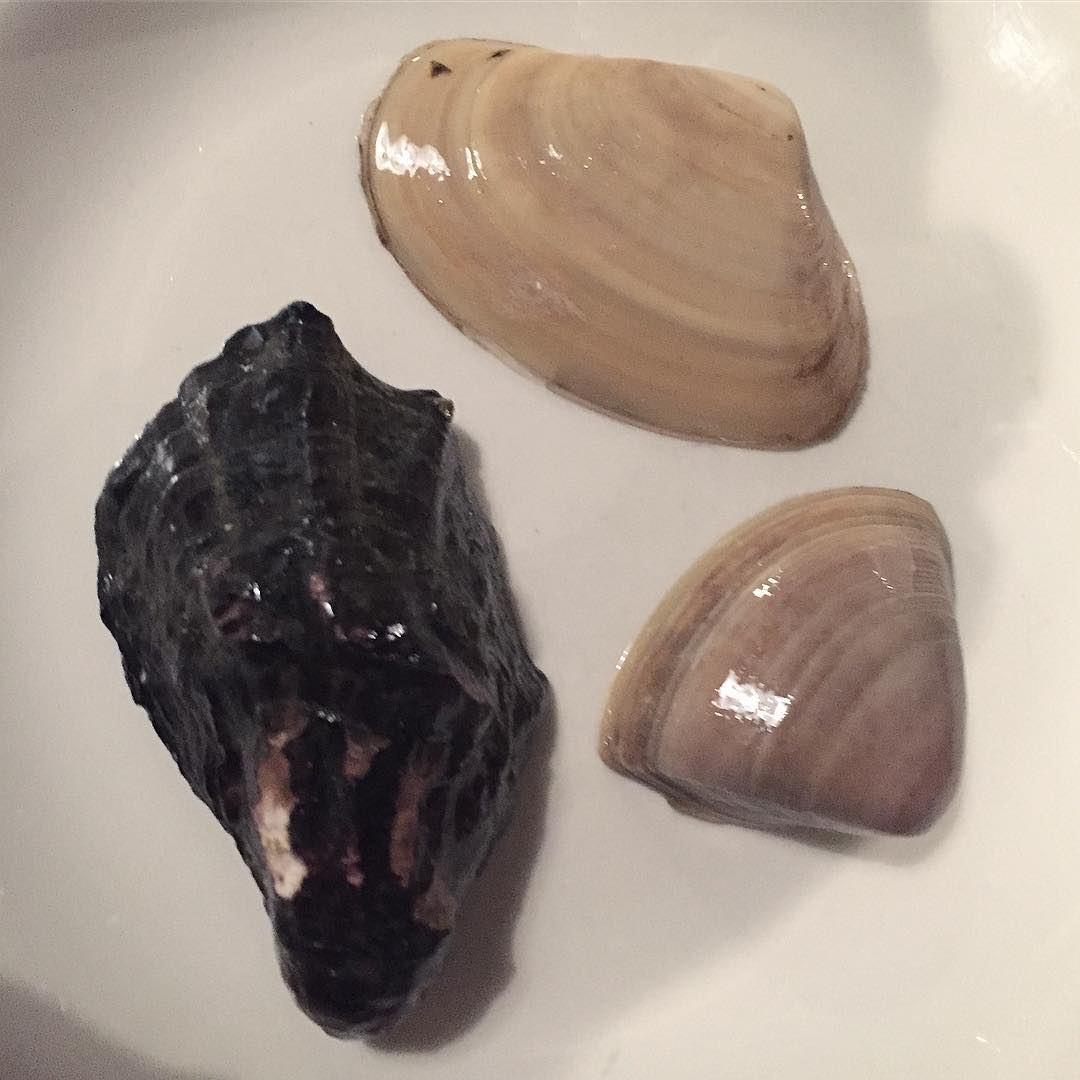tuatua: (360, 32, 886, 458)
